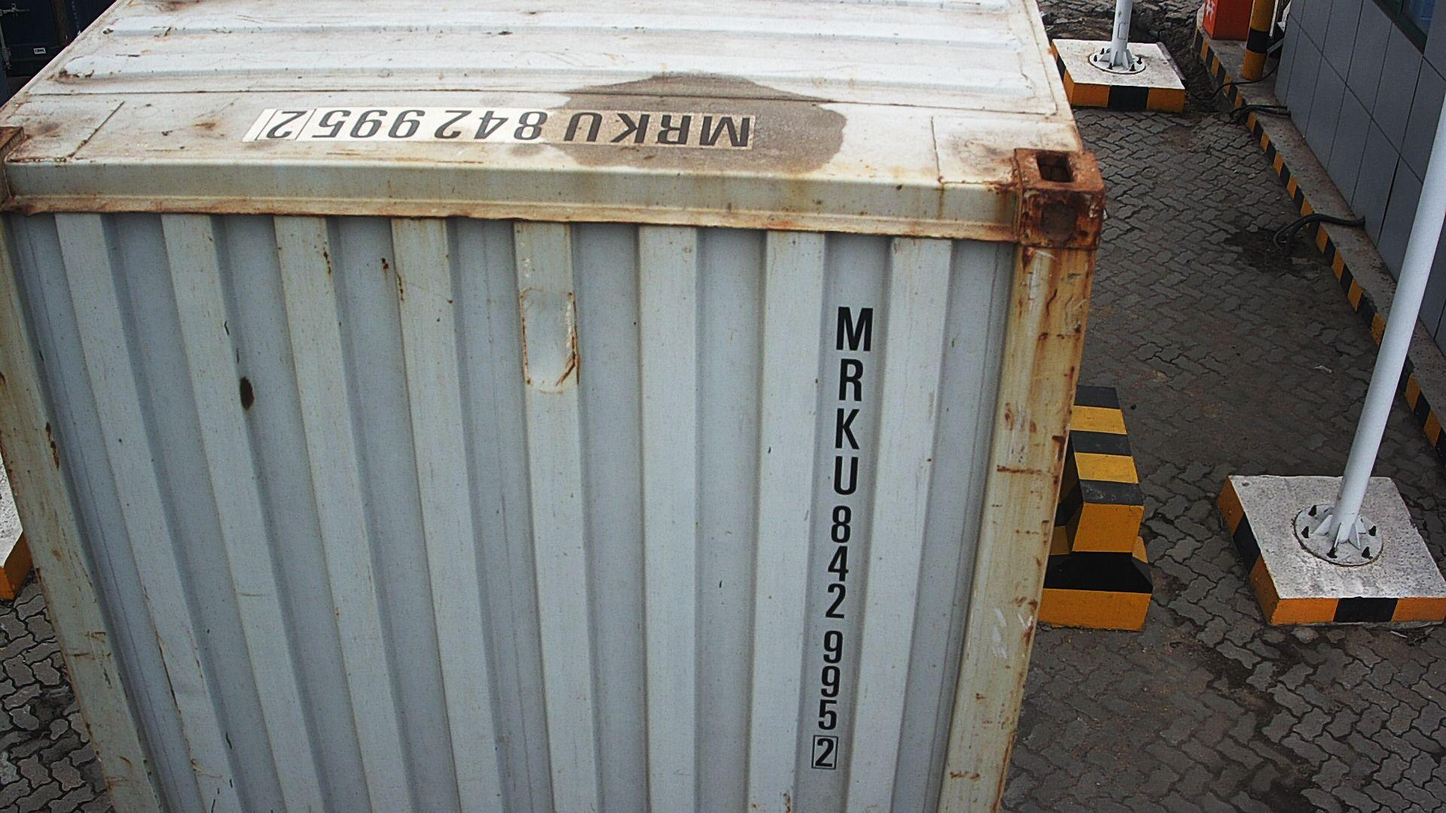container-numbers: (801, 297, 881, 778), (238, 102, 759, 152)
